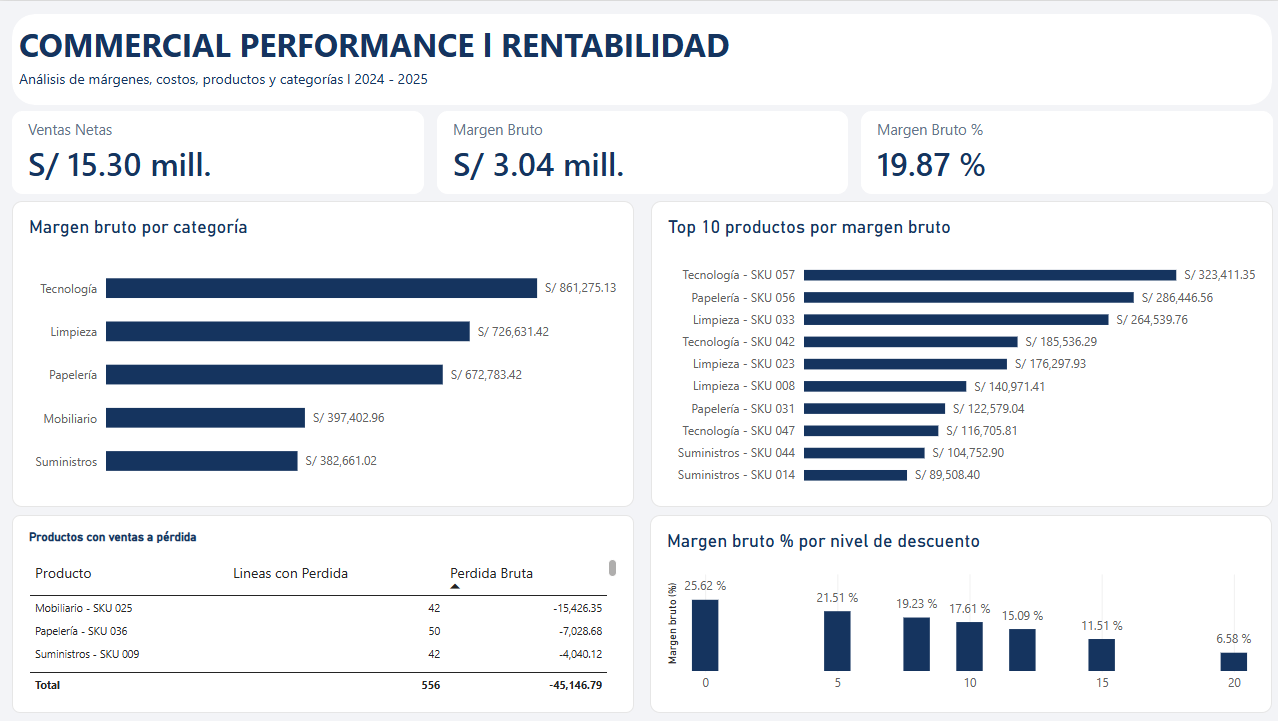

This screenshot's page, from the dashboard's own definition file:
{"tool":"powerbi","page":{"name":"Rentabilidad","canvas":[1280,720],"ordinal":1},"visuals":[{"type":"shape","box":[11.6,12.6,1260.7,90.9],"z":0},{"type":"cardVisual","fields":{"Data":["FactVentas.Ventas Netas"]},"box":[11.6,110.3,411.6,83.2],"z":0,"group":"g1"},{"type":"clusteredBarChart","title":"Margen bruto por categoría","fields":{"Category":["DimCategorias.categoria_nombre"],"Y":["FactVentas.Margen Bruto"]},"box":[11.6,200.3,622.1,305.7],"z":0,"group":"g2"},{"type":"textbox","box":[19.3,67.7,614.4,23.2],"z":1000},{"type":"cardVisual","fields":{"Data":["FactVentas.Margen Bruto"]},"box":[436.1,110.3,411.6,83.2],"z":1000,"group":"g1"},{"type":"clusteredBarChart","title":"Top 10 productos por margen bruto","fields":{"Category":["DimProductos.producto_nombre"],"Y":["FactVentas.Margen Bruto"]},"box":[650.1,200.3,622.1,305.7],"z":1000,"group":"g2"},{"type":"textbox","box":[19.3,21.3,819.5,46.4],"z":2000},{"type":"cardVisual","fields":{"Data":["FactVentas.Margen Bruto %"]},"box":[860.6,110.3,411.6,83.2],"z":2000,"group":"g1"},{"type":"group","id":"g1","title":"Grupo 1","box":[11.6,110.3,1260.7,83.2],"z":3000},{"type":"tableEx","title":"Productos con ventas a pérdida","fields":{"Values":["DimProductos.producto_nombre","FactVentas.Lineas con Perdida","FactMetas.Perdida Bruta"]},"box":[11.6,513.7,622.1,198.3],"z":5000},{"type":"group","id":"g2","title":"Grupo 2","box":[11.6,200.3,1260.7,305.7],"z":6000},{"type":"clusteredColumnChart","title":"Margen bruto % por nivel de descuento","fields":{"Category":["FactVentas.descuento_pct"],"Y":["FactVentas.Margen Bruto %"]},"box":[650.2,513.7,622.1,198.3],"z":6500}]}

Visuals, with their boxes in screenshot pixels (x1, y1, x2, y2), scaled from the page's 1280x720 canvas onto the 1278x721 screenshot:
shape: <box>12,13,1270,104</box>
cardVisual - FactVentas.Ventas Netas: <box>12,110,423,194</box>
"Margen bruto por categoría" clusteredBarChart: <box>12,201,633,507</box>
textbox: <box>19,68,633,91</box>
cardVisual - FactVentas.Margen Bruto: <box>435,110,846,194</box>
"Top 10 productos por margen bruto" clusteredBarChart: <box>649,201,1270,507</box>
textbox: <box>19,21,837,68</box>
cardVisual - FactVentas.Margen Bruto %: <box>859,110,1270,194</box>
"Grupo 1" group: <box>12,110,1270,194</box>
"Productos con ventas a pérdida" tableEx: <box>12,514,633,713</box>
"Grupo 2" group: <box>12,201,1270,507</box>
"Margen bruto % por nivel de descuento" clusteredColumnChart: <box>649,514,1270,713</box>
